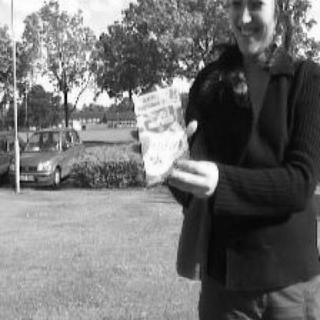other: (170, 133, 213, 275), (134, 84, 192, 184)
